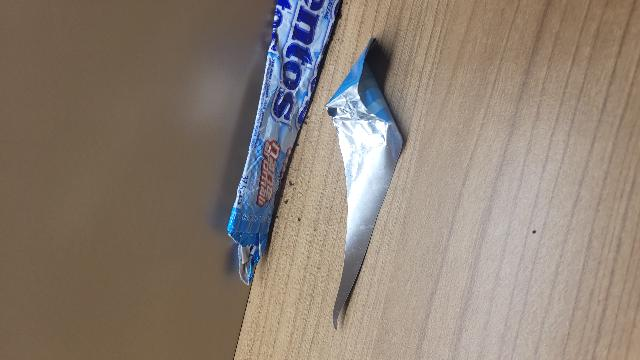Plastik: (223, 0, 345, 288), (322, 34, 417, 325)
